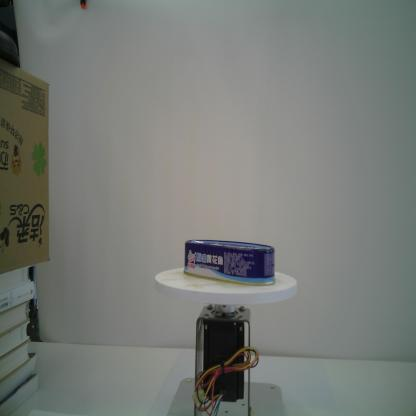Canned Food: (184, 238, 276, 286)
